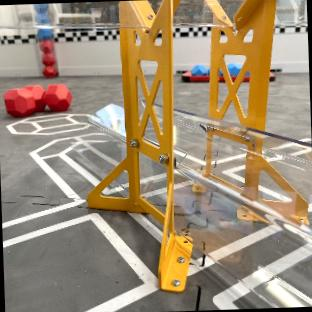V5_RED: (4, 83, 72, 118)
